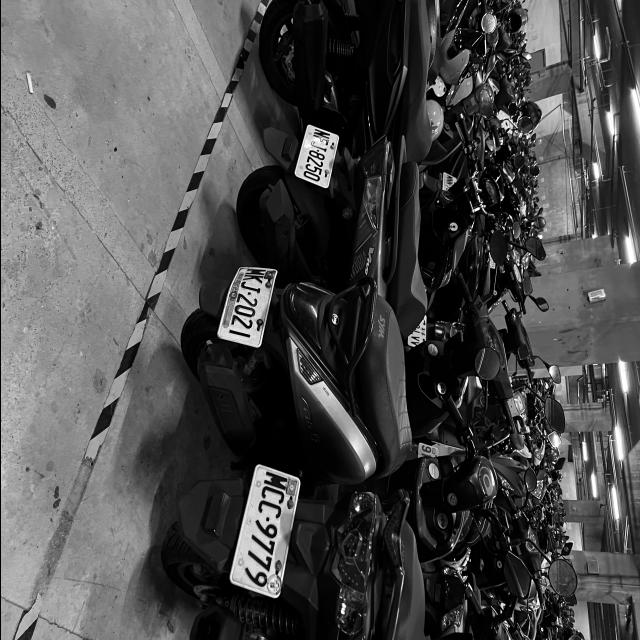-: (263, 517, 270, 522), (246, 292, 252, 296), (316, 150, 320, 152)
0: (231, 303, 257, 319), (302, 170, 320, 183), (304, 163, 322, 176)
1: (228, 328, 251, 340)
2: (229, 314, 253, 332), (234, 292, 258, 309), (305, 155, 323, 168)
7: (245, 548, 272, 574), (248, 532, 275, 557)
8: (307, 149, 325, 161)
9: (252, 517, 280, 542), (243, 566, 268, 590), (421, 445, 431, 453)
C: (256, 498, 283, 521), (258, 484, 285, 506)
F: (311, 134, 328, 147)
J: (238, 281, 261, 296), (309, 140, 326, 153)
K: (241, 275, 264, 284)
M: (262, 470, 288, 493), (244, 269, 266, 276)
N: (312, 128, 330, 139)
plate: (231, 467, 298, 596), (220, 267, 275, 348), (295, 125, 337, 187)
